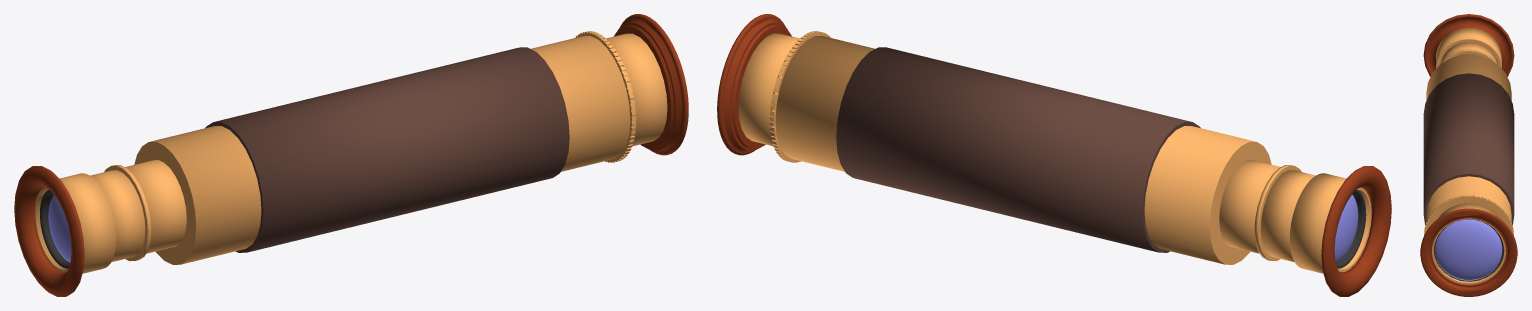
The model's file is binoculars2.fbx.
3 renders of one model, left to right at view 1: azimuth 30°, elevation 25°; view 2: azimuth 150°, elevation 25°; view 3: azimuth 270°, elevation 25°, orthographic. The views are drawn at different scales.
Visible parts, largest first — view 1: G-__555591; view 2: G-__555591; view 3: G-__555591.
Boxes of the visible parts, <box> form: G-__555591: <box>14,14,688,296</box>; G-__555591: <box>717,14,1391,296</box>; G-__555591: <box>1420,14,1517,296</box>.
Size of the model in its own units: 73.8 by 15.15 by 15.15.
